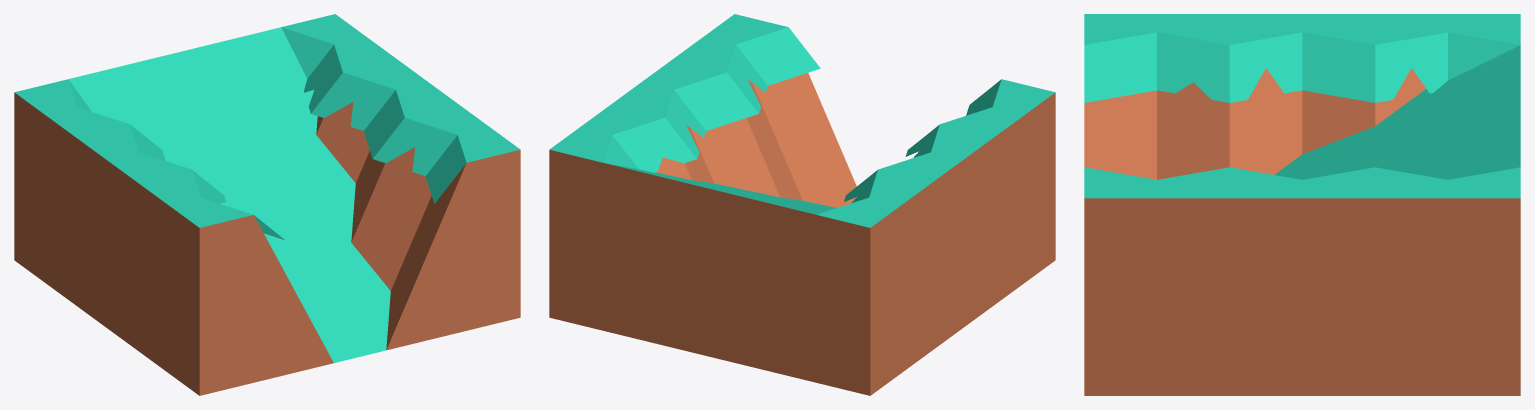
The model's file is cliff_blockSlopeHalfWalls_rock.dae.
3 views of the same model, side by side, from view 1: azimuth 30°, elevation 25°; view 2: azimuth 150°, elevation 25°; view 3: azimuth 270°, elevation 25° (orthographic). The views are drawn at different scales.
Parts seen in each view (by area): view 1: cliff_blockSlopeHalfWalls_rock; view 2: cliff_blockSlopeHalfWalls_rock; view 3: cliff_blockSlopeHalfWalls_rock.
Part boxes in pixels (left/top/right/bottom): cliff_blockSlopeHalfWalls_rock: left=14, top=14, right=520, bottom=395; cliff_blockSlopeHalfWalls_rock: left=549, top=14, right=1055, bottom=395; cliff_blockSlopeHalfWalls_rock: left=1084, top=14, right=1520, bottom=395.
Size of the model in its own units: 1 by 0.5 by 1.
